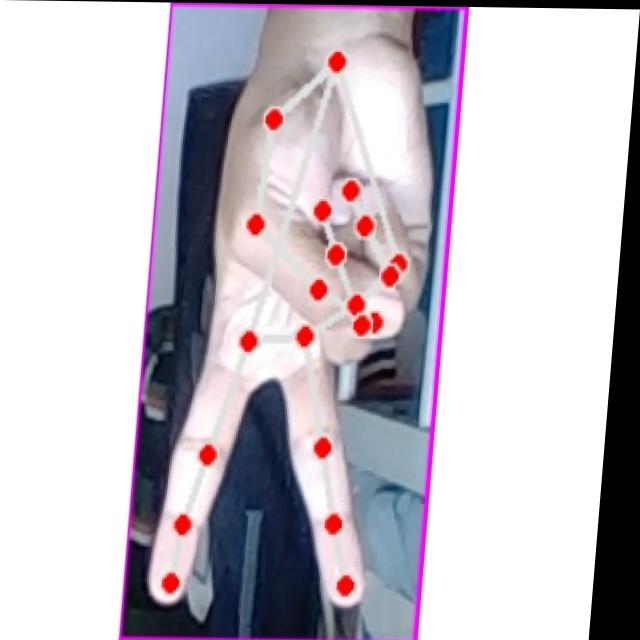V: (162, 40, 447, 614)
